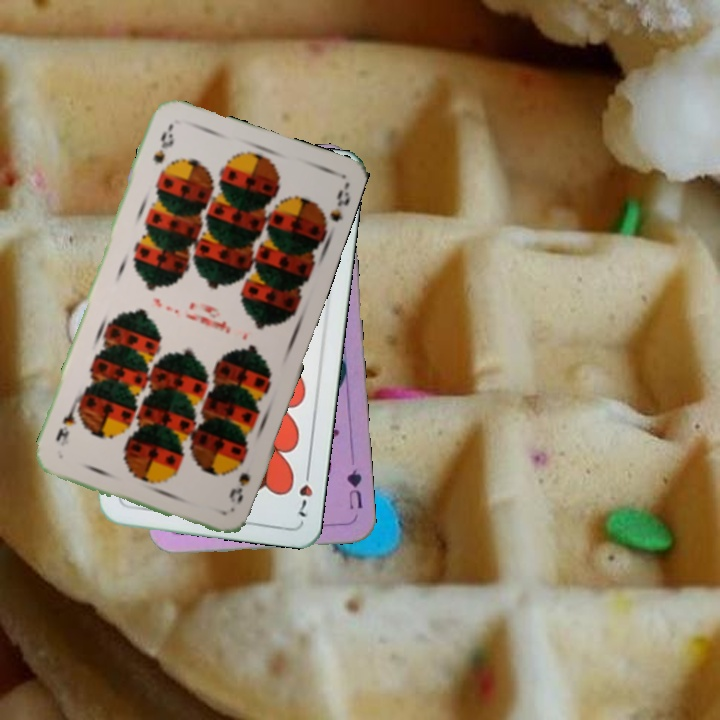GU: (342, 463, 365, 512)
H7: (294, 463, 316, 520)
S9: (225, 454, 253, 506), (149, 122, 176, 166)
